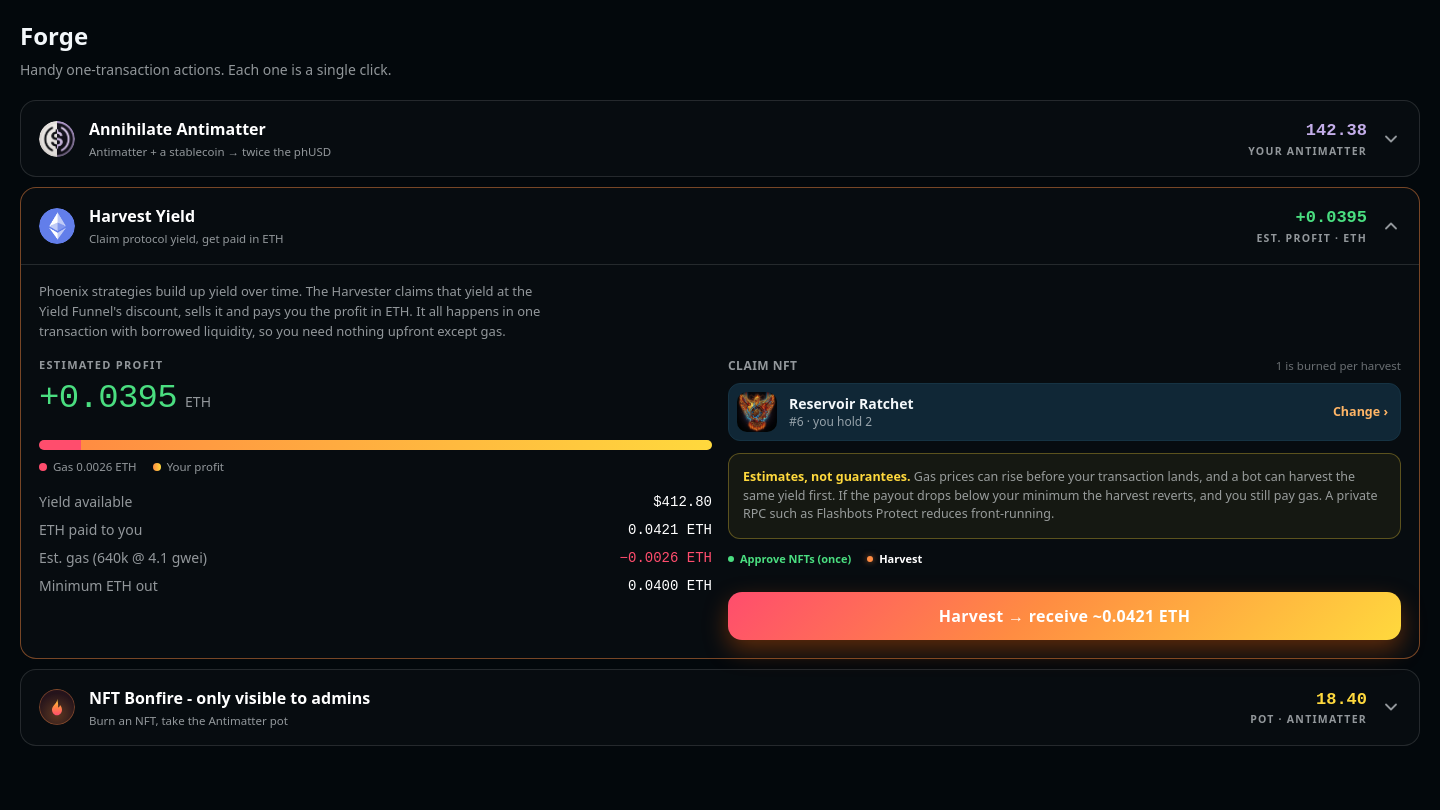
Scenario: ForgeTab › opens Annihilate when its header is clicked, collapsing Harvest
This screenshot has width=1440, height=810.
Click the button "Annihilate Antimatter" at [57, 139], box x1=21 y1=101 x2=1419 y2=176
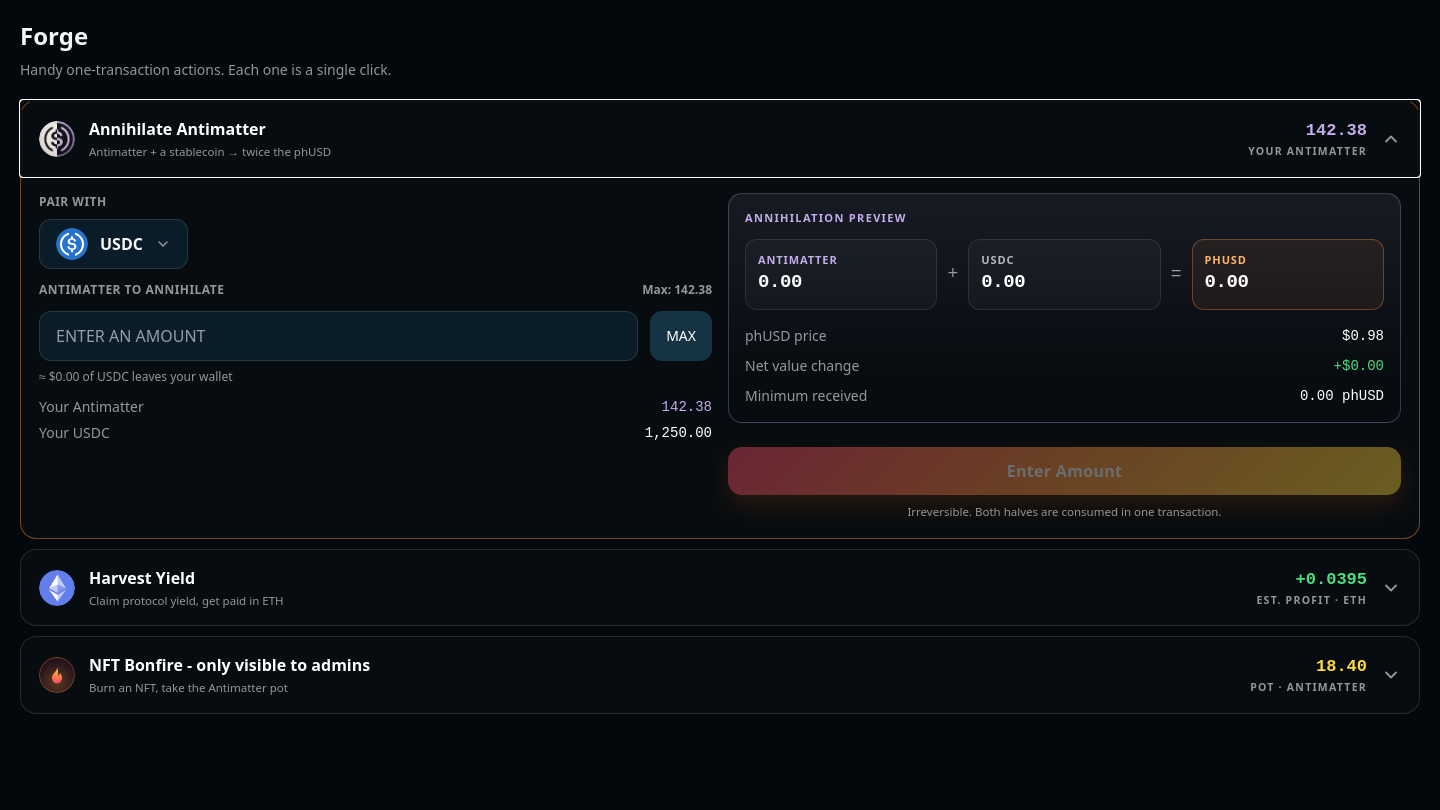
Result: the button "Annihilate Antimatter" is expanded at x1=21 y1=101 x2=1419 y2=176
Result: the button "Harvest Yield" is collapsed at x1=21 y1=550 x2=1419 y2=625
Result: the text "Annihilation preview" is shown at x1=745 y1=210 x2=907 y2=225
